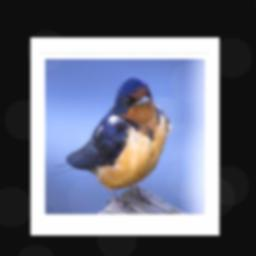Swallow: (49, 73, 173, 211)
